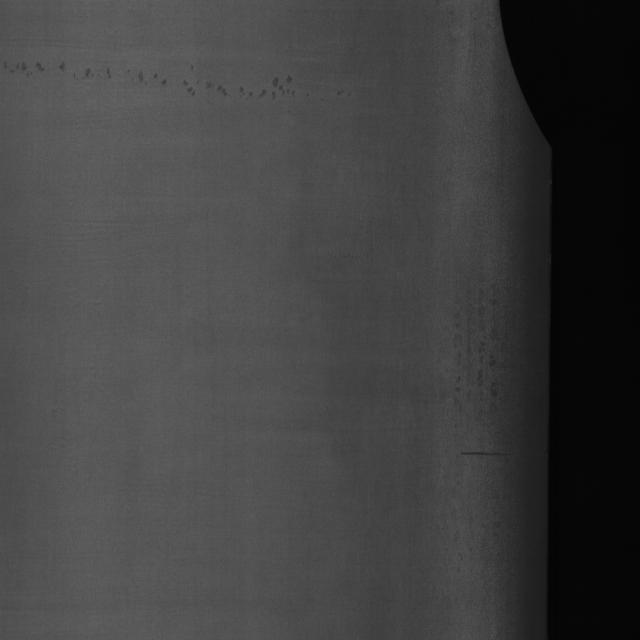silk_spot: (484, 0, 593, 169)
